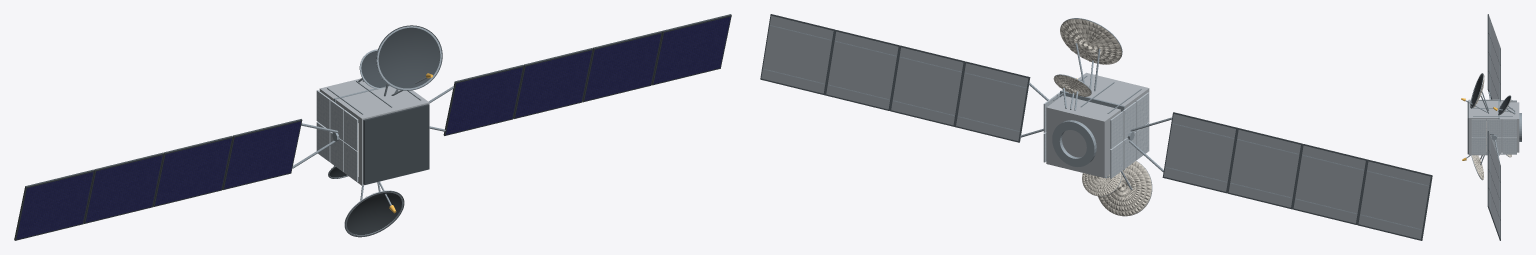
Rendered from govsat-1.glb.
The picture shows the model from 3 angles, left to right: view 1: azimuth 30°, elevation 25°; view 2: azimuth 150°, elevation 25°; view 3: azimuth 270°, elevation 25°; orthographic projection. The views are drawn at different scales.
Parts seen in each view (by area): view 1: Solar cell panel (×8), Earth-facing deck, Solar panel frame (×8), Reflector 2 face, Radiator bay (×6), Payload module, Reflector 1 face, Service module, Reflector 4 face, Reflector 2 edge; view 2: Rear array substrate (×8), Solar panel frame (×8), Service module, Radiator bay (×6), Reflector 2 insulated back, Reflector 1 insulated back, Payload module, Launch adapter ring, Reflector 3 insulated back, Reflector 4 insulated back; view 3: Rear array substrate (×8), Radiator bay (×6), Payload module, Solar panel frame (×8), Service module, Reflector 2 face, Reflector 1 insulated back, Earth-facing deck, Reflector 4 face, Reflector 2 edge, Launch adapter ring, Reflector 2 insulated back (+1 smaller).
Boxes of the visible parts, x1,y1,x2,y2 form: Solar cell panel (×8): [16, 16, 730, 239]; Earth-facing deck: [363, 104, 429, 184]; Solar panel frame (×8): [14, 14, 731, 240]; Reflector 2 face: [376, 25, 442, 90]; Radiator bay (×6): [316, 90, 358, 181]; Payload module: [335, 86, 429, 185]; Reflector 1 face: [345, 191, 404, 237]; Service module: [319, 78, 374, 101]; Reflector 4 face: [361, 51, 388, 87]; Reflector 2 edge: [376, 25, 441, 89]; Rear array substrate (×8): [761, 15, 1430, 239]; Solar panel frame (×8): [760, 14, 1432, 240]; Service module: [1046, 95, 1120, 177]; Radiator bay (×6): [1110, 92, 1149, 178]; Reflector 2 insulated back: [1060, 19, 1121, 64]; Reflector 1 insulated back: [1098, 161, 1151, 216]; Payload module: [1062, 72, 1149, 122]; Launch adapter ring: [1052, 120, 1096, 166]; Reflector 3 insulated back: [1082, 172, 1121, 196]; Reflector 4 insulated back: [1053, 75, 1091, 96]; Rear array substrate (×8): [1488, 15, 1500, 238]; Radiator bay (×6): [1471, 119, 1516, 154]; Payload module: [1468, 99, 1498, 155]; Solar panel frame (×8): [1487, 14, 1500, 240]; Service module: [1499, 102, 1519, 152]; Reflector 2 face: [1470, 73, 1482, 108]; Reflector 1 insulated back: [1472, 155, 1483, 179]; Earth-facing deck: [1467, 100, 1468, 154]; Reflector 4 face: [1498, 96, 1510, 114]; Reflector 2 edge: [1470, 73, 1483, 108]; Launch adapter ring: [1519, 113, 1521, 141]; Reflector 2 insulated back: [1473, 74, 1484, 107].
Bounding box in the file's own units: 21.98 × 5.98 × 2.94.
9 materials, 2 textured.
